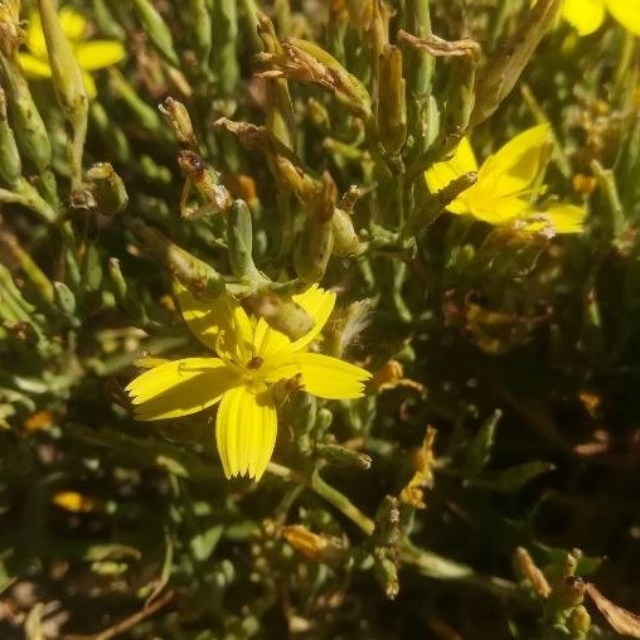obstacle: (97, 58, 442, 479)
